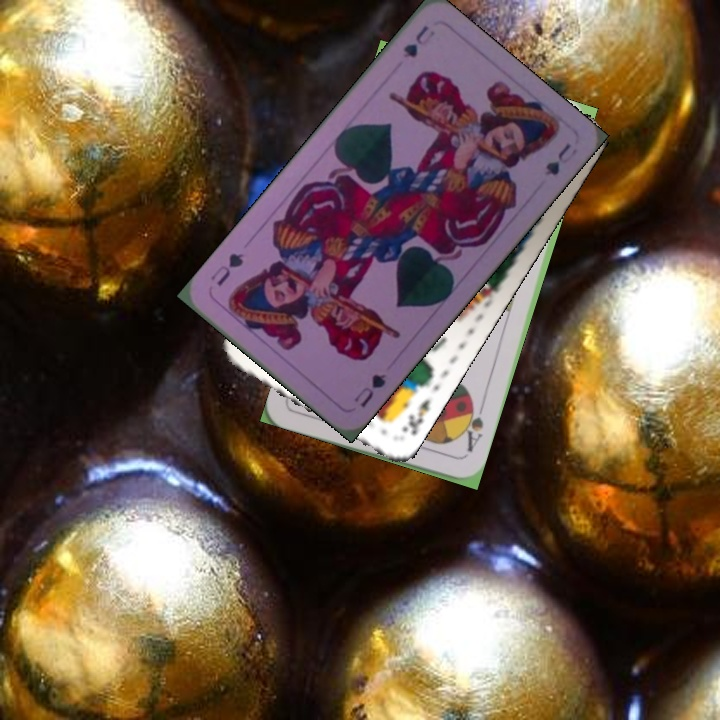EK: (398, 394, 433, 437)
GU: (398, 21, 438, 61), (350, 369, 389, 410)
SA: (457, 399, 486, 455)
